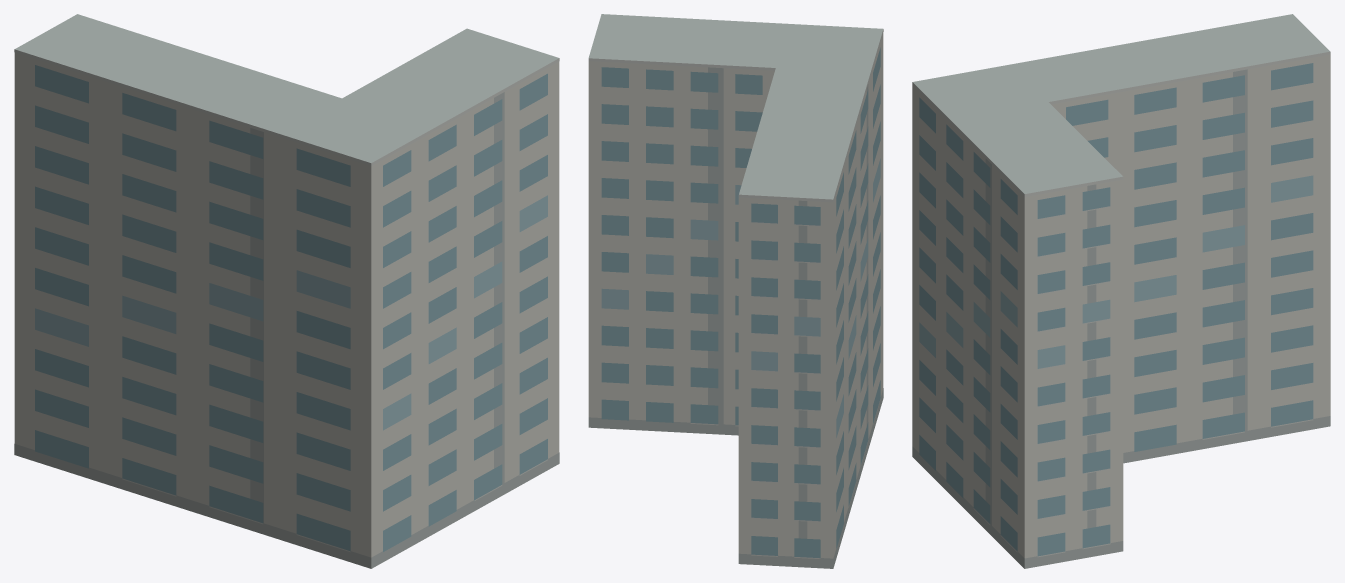
The model's file is residential-b168f040-2067-40b7-9669-7c28dd607e90.glb.
The picture shows the model from 3 angles, left to right: view 1: azimuth 30°, elevation 25°; view 2: azimuth 150°, elevation 25°; view 3: azimuth 270°, elevation 25°; orthographic projection. The views are drawn at different scales.
Parts seen in each view (by area): view 1: residential-b168f040-2067-40b7-9669-7c28dd607e90.tmp; view 2: residential-b168f040-2067-40b7-9669-7c28dd607e90.tmp; view 3: residential-b168f040-2067-40b7-9669-7c28dd607e90.tmp.
Boxes of the visible parts, left/top/right/bottom form: residential-b168f040-2067-40b7-9669-7c28dd607e90.tmp: left=14, top=14, right=559, bottom=568; residential-b168f040-2067-40b7-9669-7c28dd607e90.tmp: left=588, top=14, right=883, bottom=568; residential-b168f040-2067-40b7-9669-7c28dd607e90.tmp: left=912, top=14, right=1330, bottom=568.
Size of the model in its own units: 31.98 by 31 by 31.36.
